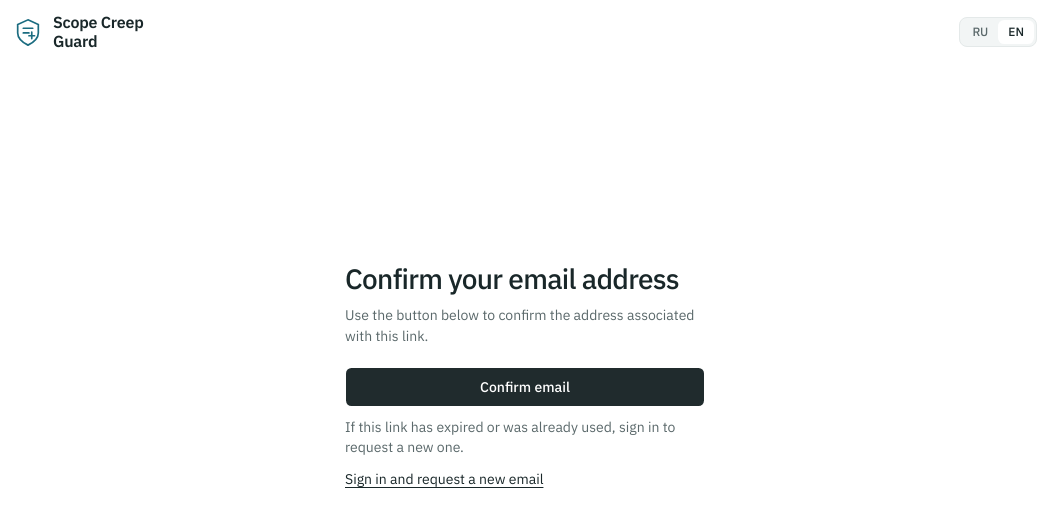
Test: never consumes a link on load; submits the fragment owner only on an explicit action
Click the button "Confirm email": point(525, 387) [345,367,705,407]
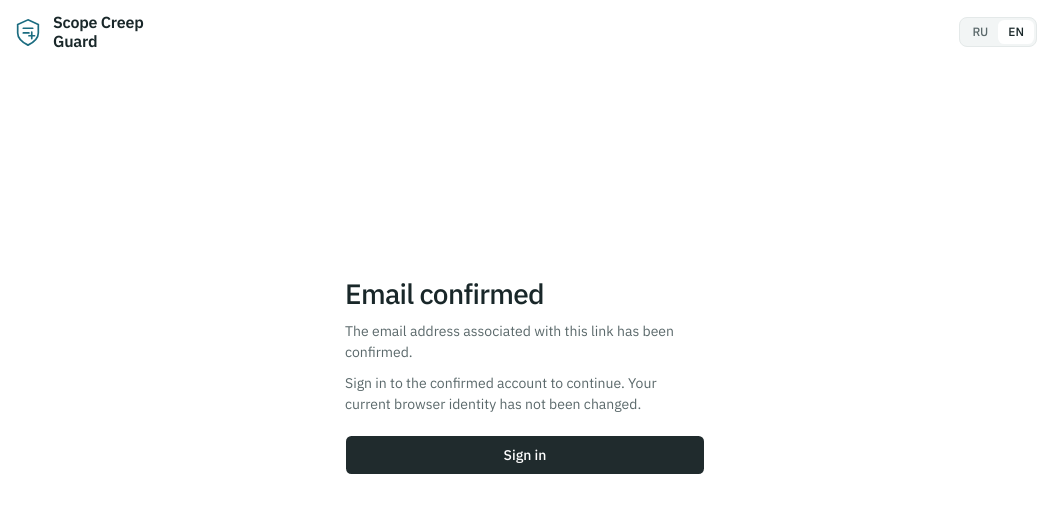
Result: the heading "Email confirmed" is shown at [345,275,544,312]
